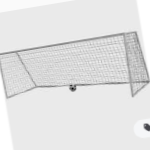goals: (1, 30, 150, 100)
